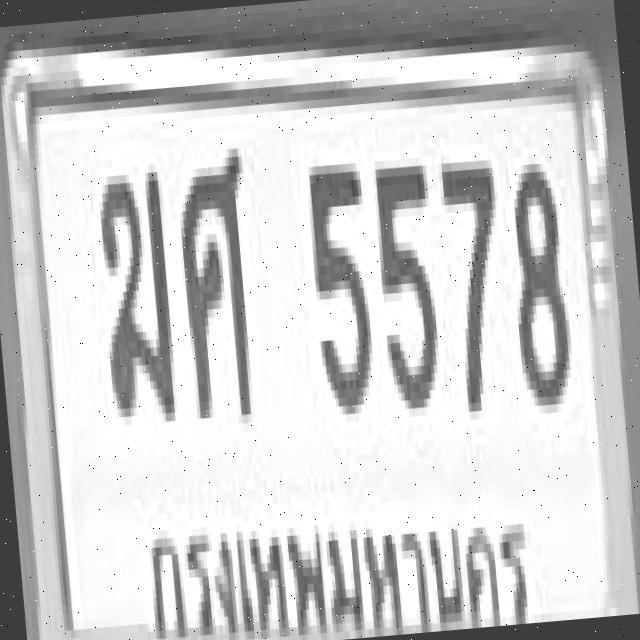15KhorRaKhang: (90, 159, 177, 413)
47SorSala: (170, 136, 260, 414)
5: (301, 154, 376, 407), (368, 153, 443, 406)
7: (437, 151, 509, 404)
8: (500, 150, 571, 394)
Bangkok: (138, 471, 542, 640)
